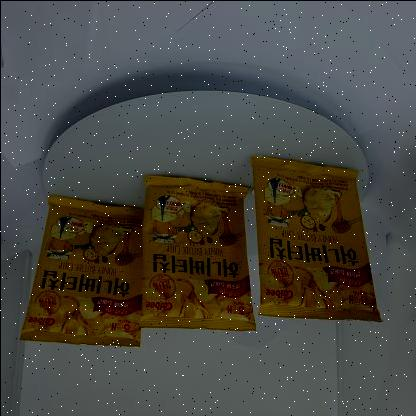Others: (16, 147, 390, 353)
